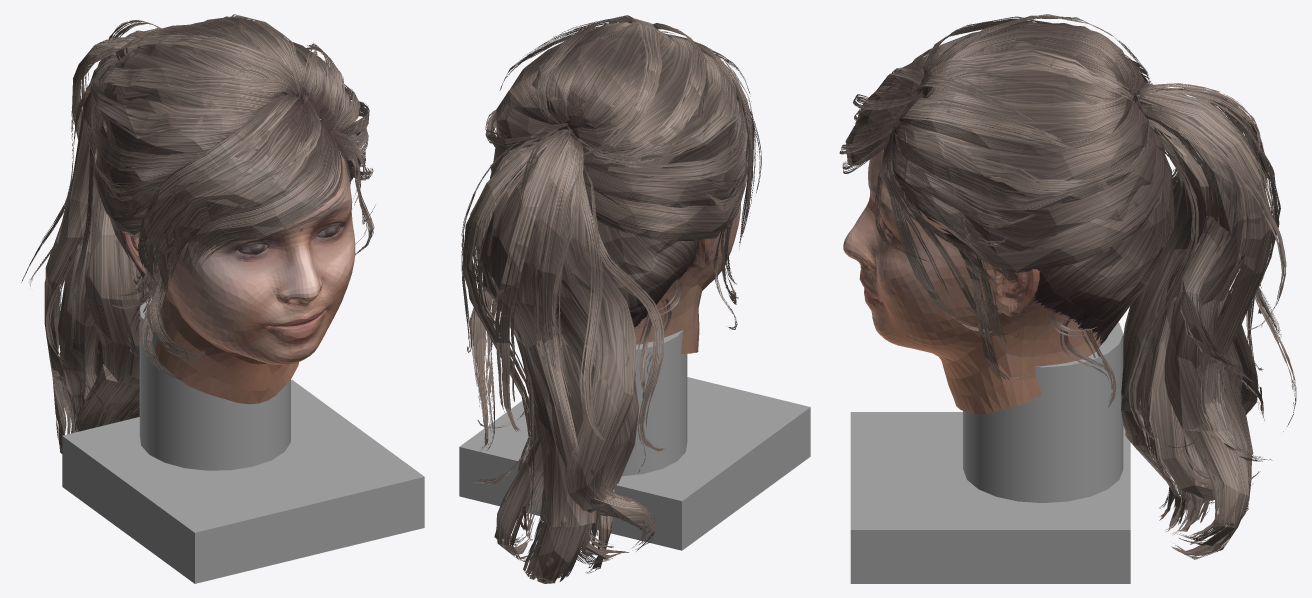
The model's file is aajay.fbx.
3 views of the same model, side by side, from view 1: azimuth 30°, elevation 25°; view 2: azimuth 150°, elevation 25°; view 3: azimuth 270°, elevation 25° (orthographic). The views are drawn at different scales.
Visible parts, largest first — view 1: Mesh, pCube1, pCylinder1; view 2: Mesh, pCube1, pCylinder1; view 3: Mesh, pCube1, pCylinder1.
Part boxes in pixels (x1,y1,x2,y2): Mesh: (21, 14, 375, 453); pCube1: (62, 379, 424, 583); pCylinder1: (139, 295, 290, 470); Mesh: (461, 15, 761, 583); pCube1: (459, 377, 810, 550); pCylinder1: (622, 330, 687, 476); Mesh: (839, 14, 1296, 559); pCube1: (850, 412, 1130, 583); pCylinder1: (963, 322, 1123, 503).
Size of the model in its own units: 7.77 by 14.74 by 11.57.
